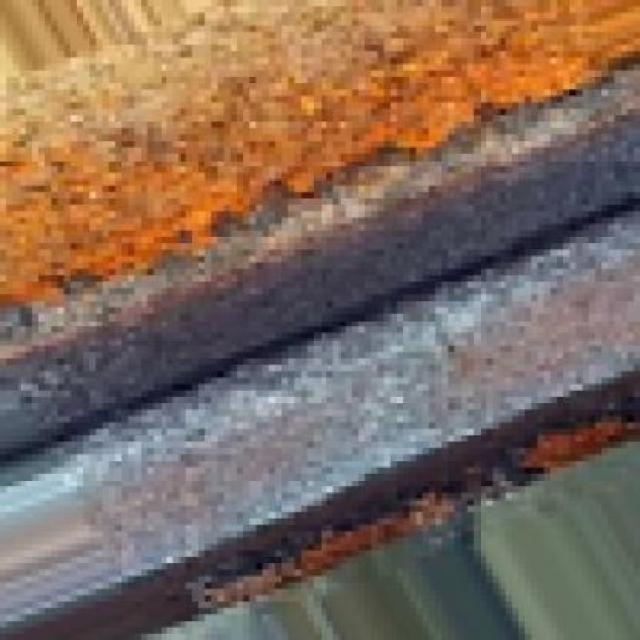defective: (3, 0, 638, 575)
